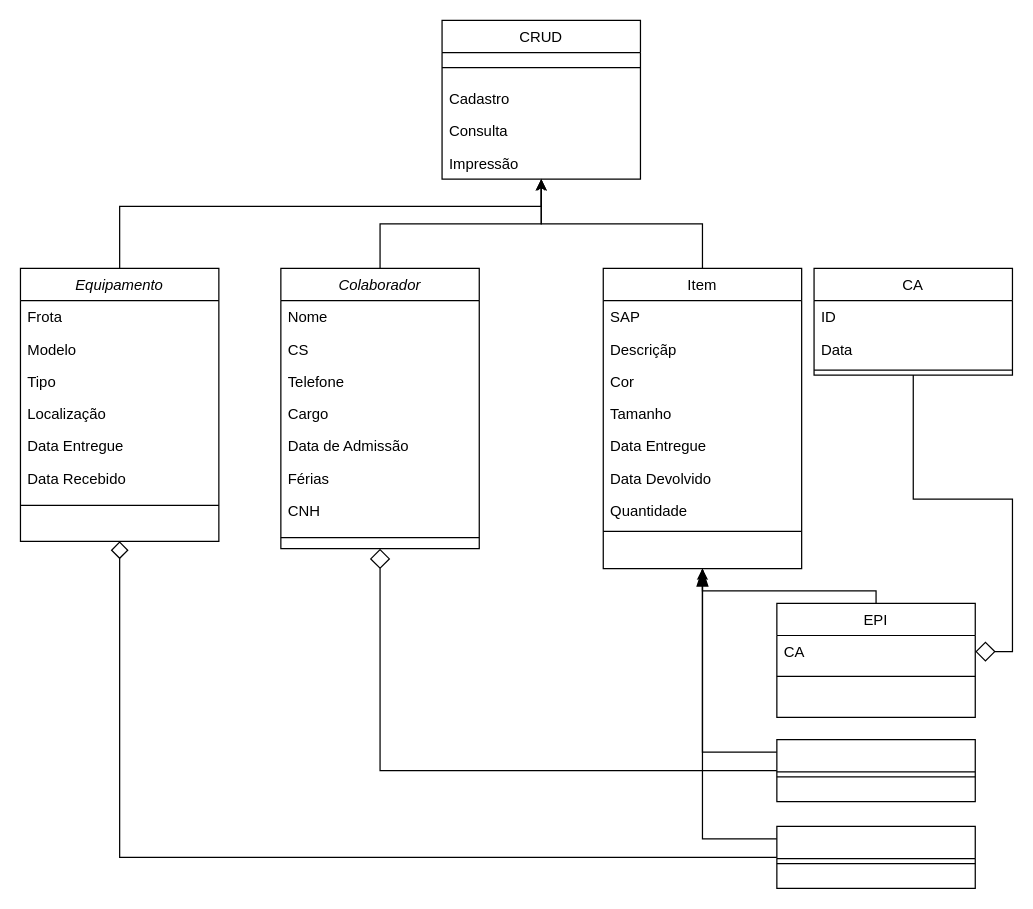
The diagram is 1033 pixels wide and 909 high, and some of its shapes have lost their labels. The centre of each missing label's shape, as x and y in pixels:
"Peças" goes at point 875,856.
"Uniforme" goes at point 875,770.
